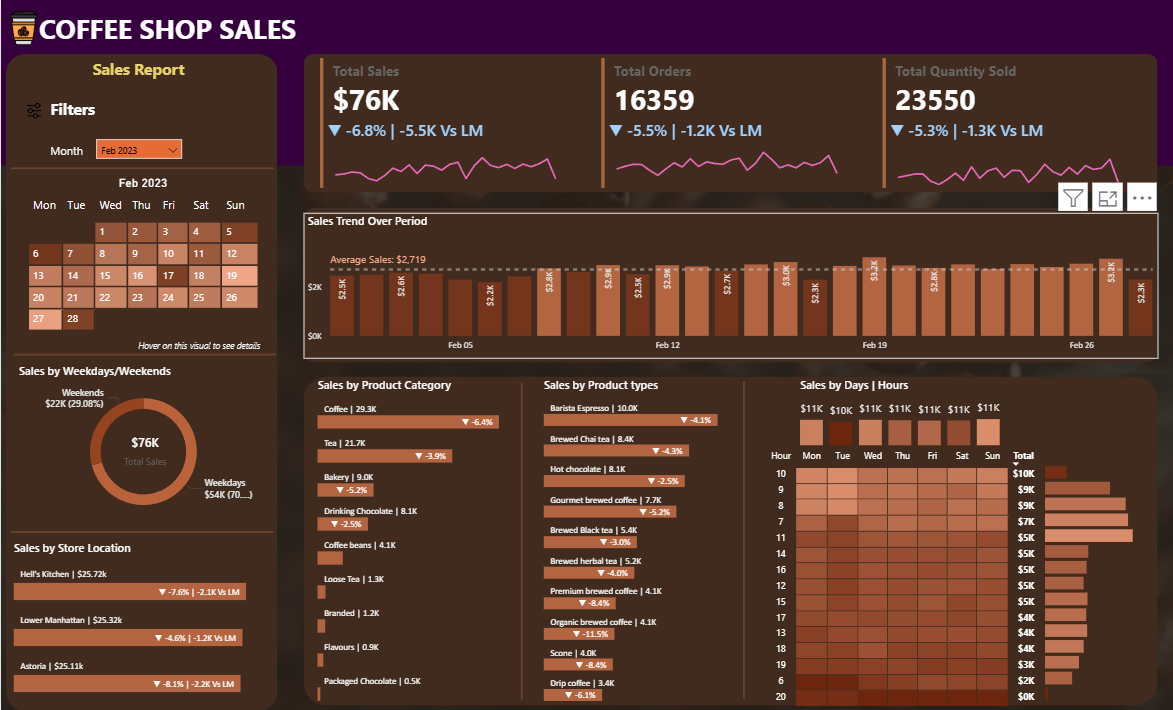

This screenshot's page, from the dashboard's own definition file:
{"tool":"powerbi","page":{"name":"Page 1","canvas":[1400,850],"ordinal":0},"visuals":[{"type":"shape","box":[0,0,1400,198.9],"z":0},{"type":"shape","box":[5.7,65.7,324.3,784.3],"z":1000},{"type":"shape","box":[361.8,65.5,1019.8,165.2],"z":2000},{"type":"textbox","box":[39.9,8.5,321.9,57],"z":3000},{"type":"slicer","fields":{"Values":["Date.Month Year"]},"box":[108.2,162.4,112.5,37],"z":4000},{"type":"group","id":"g1","title":"Group 1","box":[376,65.5,300.5,165.2],"z":5000},{"type":"cardVisual","fields":{"Data":["Transactions.Total Sales"]},"box":[376,65.5,300.5,165.2],"z":6000,"group":"g1"},{"type":"group","id":"g2","title":"Group 1","box":[712.1,65.5,300.5,165.2],"z":6000},{"type":"cardVisual","fields":{"Data":["Transactions.Total Orders"]},"box":[712.1,65.5,300.5,165.2],"z":6000,"group":"g2"},{"type":"cardVisual","fields":{"Data":["Transactions.Total Quantity Sold"]},"box":[1048.3,65.5,300.5,165.2],"z":6000,"group":"g3"},{"type":"group","id":"g3","title":"Group 1","box":[1048.3,65.5,300.5,165.2],"z":7000},{"type":"lineChart","fields":{"Category":["Date.Date.Variation.Date Hierarchy.Year","Date.Date.Variation.Date Hierarchy.Quarter","Date.Date.Variation.Date Hierarchy.Month","Date.Date.Variation.Date Hierarchy.Day"],"Y":["Transactions.Total Sales"]},"box":[384.2,142.4,292.2,85.6],"z":7000,"group":"g1"},{"type":"lineChart","fields":{"Category":["Date.Date.Variation.Date Hierarchy.Year","Date.Date.Variation.Date Hierarchy.Quarter","Date.Date.Variation.Date Hierarchy.Month","Date.Date.Variation.Date Hierarchy.Day"],"Y":["Transactions.Total Orders"]},"box":[720.3,142.4,292.2,85.6],"z":7000,"group":"g2"},{"type":"lineChart","fields":{"Category":["Date.Date.Variation.Date Hierarchy.Year","Date.Date.Variation.Date Hierarchy.Quarter","Date.Date.Variation.Date Hierarchy.Month","Date.Date.Variation.Date Hierarchy.Day"],"Y":["Transactions.Total Quantity Sold"]},"box":[1056.5,142.4,292.2,85.6],"z":7000,"group":"g3"},{"type":"pivotTable","fields":{"Rows":["Date.Week Number"],"Columns":["Date.Day Name"],"Values":["Min(Date.Day Number)"]},"box":[1.4,227.9,330.4,202.2],"z":8000},{"type":"card","fields":{"Values":["Min(Date.Month Year)"]},"box":[119.6,206.5,101.1,25.6],"z":9000},{"type":"card","fields":{"Values":["Transactions.Foot Note"]},"box":[149.5,398.8,175.2,35.6],"z":10000},{"type":"shape","box":[14.2,407.3,313.3,34.2],"z":11000},{"type":"shape","box":[11.4,185.2,313.3,34.2],"z":12000},{"type":"donutChart","title":"Sales by Weekdays/Weekends","fields":{"Category":["Date.Weekdays / Weekends"],"Y":["Transactions.Total Sales"]},"box":[17.1,434.4,307.6,195.1],"z":13000},{"type":"card","fields":{"Values":["Transactions.Total Sales"]},"box":[124,507,97,63],"z":14000},{"type":"shape","box":[11.4,615.3,313.3,42.7],"z":15000},{"type":"clusteredBarChart","title":"Sales by Store Location","fields":{"Category":["Transactions.store_location"],"Y":["Transactions.Placeholder","Transactions.Total Sales"]},"box":[10,646.6,313.3,189.4],"z":16000},{"type":"shape","box":[361.8,450.1,1019.8,393.1],"z":17000},{"type":"shape","box":[361.8,249.2,1019.8,185.2],"z":18000},{"type":"columnChart","title":"Sales Trend Over Period","fields":{"Y":["Transactions.Total Sales"],"Category":["Transactions.transaction_date"]},"box":[361.8,254.9,1019.8,175.2],"z":19000},{"type":"clusteredBarChart","title":"Sales by Product Category","fields":{"Category":["Transactions.product_category"],"Y":["Transactions.Placeholder","Transactions.Total Sales"]},"box":[373.2,450.1,249.2,393.1],"z":20000},{"type":"shape","box":[866,457.2,42.7,378.9],"z":21000},{"type":"clusteredBarChart","title":"Sales by Product types","fields":{"Y":["Transactions.Placeholder","Transactions.Total Sales"],"Category":["Transactions.product_type"]},"box":[643.9,450.3,249.1,393.2],"z":22000},{"type":"shape","box":[600.3,457.8,43.5,378.2],"z":23000},{"type":"pivotTable","fields":{"Rows":["Transactions.Hour"],"Columns":["Date.Day Name"],"Values":["Transactions.Total Sales"]},"box":[908.7,532.7,358.9,316.2],"z":24000},{"type":"clusteredBarChart","fields":{"Category":["Transactions.Hour"],"Y":["Transactions.Total Sales"]},"box":[1242,545.5,118.2,297.7],"z":25000},{"type":"clusteredColumnChart","title":"Sales by Days | Hours","fields":{"Y":["Transactions.Total Sales"],"Category":["Date.Day Name"]},"box":[950,450.1,249.2,88.3],"z":26000},{"type":"textbox","box":[54.1,166.6,54.1,28.5],"z":27000},{"type":"textbox","box":[104,65.5,136.7,38.5],"z":28000},{"type":"textbox","box":[54.1,113.9,95.4,48.4],"z":29000},{"type":"image","box":[15.7,119.6,48.4,28.5],"z":29001},{"type":"image","box":[0,8.5,54.1,51.3],"z":29002}]}

Visuals, with their boxes in screenshot pixels (x1, y1, x2, y2), scaled from the page's 1400x850 canvas onto the 1173x710 screenshot:
shape: (left=0, top=0, right=1172, bottom=166)
shape: (left=5, top=55, right=276, bottom=709)
shape: (left=303, top=55, right=1158, bottom=193)
textbox: (left=33, top=7, right=303, bottom=55)
slicer - Date.Month Year: (left=91, top=136, right=185, bottom=167)
"Group 1" group: (left=315, top=55, right=567, bottom=193)
cardVisual - Transactions.Total Sales: (left=315, top=55, right=567, bottom=193)
"Group 1" group: (left=597, top=55, right=848, bottom=193)
cardVisual - Transactions.Total Orders: (left=597, top=55, right=848, bottom=193)
cardVisual - Transactions.Total Quantity Sold: (left=878, top=55, right=1130, bottom=193)
"Group 1" group: (left=878, top=55, right=1130, bottom=193)
lineChart - Date.Date.Variation.Date Hierarchy.Year x Date.Date.Variation.Date Hierarchy.Quarter: (left=322, top=119, right=567, bottom=190)
lineChart - Date.Date.Variation.Date Hierarchy.Year x Date.Date.Variation.Date Hierarchy.Quarter: (left=604, top=119, right=848, bottom=190)
lineChart - Date.Date.Variation.Date Hierarchy.Year x Date.Date.Variation.Date Hierarchy.Quarter: (left=885, top=119, right=1130, bottom=190)
pivotTable - Date.Week Number x Date.Day Name: (left=1, top=190, right=278, bottom=359)
card - Min(Date.Month Year): (left=100, top=172, right=185, bottom=194)
card - Transactions.Foot Note: (left=125, top=333, right=272, bottom=363)
shape: (left=12, top=340, right=274, bottom=369)
shape: (left=10, top=155, right=272, bottom=183)
"Sales by Weekdays/Weekends" donutChart: (left=14, top=363, right=272, bottom=526)
card - Transactions.Total Sales: (left=104, top=423, right=185, bottom=476)
shape: (left=10, top=514, right=272, bottom=550)
"Sales by Store Location" clusteredBarChart: (left=8, top=540, right=271, bottom=698)
shape: (left=303, top=376, right=1158, bottom=704)
shape: (left=303, top=208, right=1158, bottom=363)
"Sales Trend Over Period" columnChart: (left=303, top=213, right=1158, bottom=359)
"Sales by Product Category" clusteredBarChart: (left=313, top=376, right=521, bottom=704)
shape: (left=726, top=382, right=761, bottom=698)
"Sales by Product types" clusteredBarChart: (left=539, top=376, right=748, bottom=705)
shape: (left=503, top=382, right=539, bottom=698)
pivotTable - Transactions.Hour x Date.Day Name: (left=761, top=445, right=1062, bottom=709)
clusteredBarChart - Transactions.Hour x Transactions.Total Sales: (left=1041, top=456, right=1140, bottom=704)
"Sales by Days | Hours" clusteredColumnChart: (left=796, top=376, right=1005, bottom=450)
textbox: (left=45, top=139, right=91, bottom=163)
textbox: (left=87, top=55, right=202, bottom=87)
textbox: (left=45, top=95, right=125, bottom=136)
image: (left=13, top=100, right=54, bottom=124)
image: (left=0, top=7, right=45, bottom=50)
